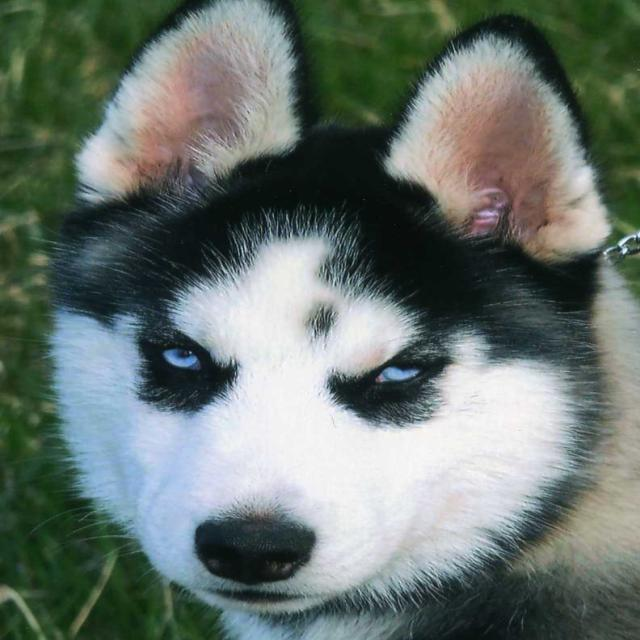dog: (34, 36, 602, 640)
